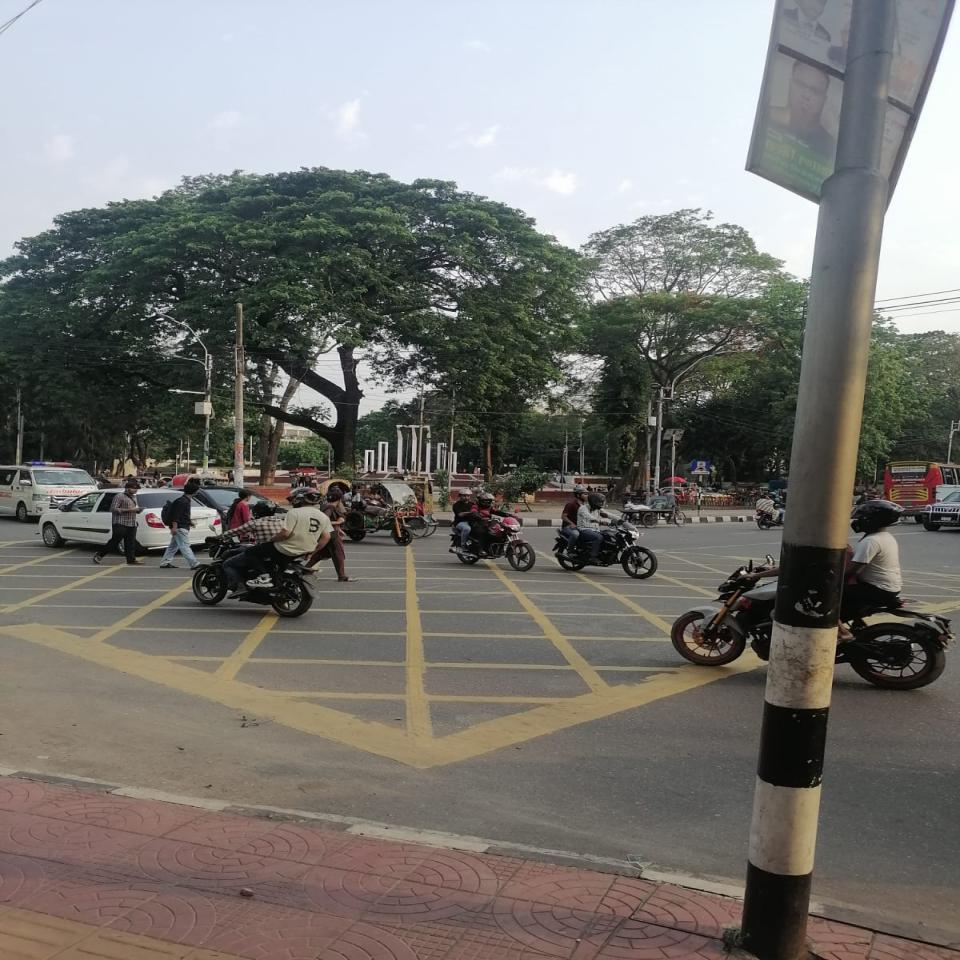person: (161, 482, 202, 571), (320, 487, 352, 589), (110, 481, 142, 566), (227, 484, 255, 531)
